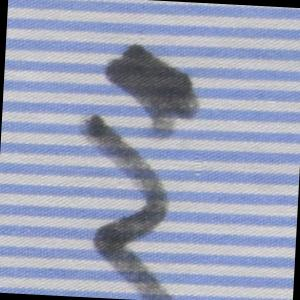Stain: (71, 39, 205, 300)
